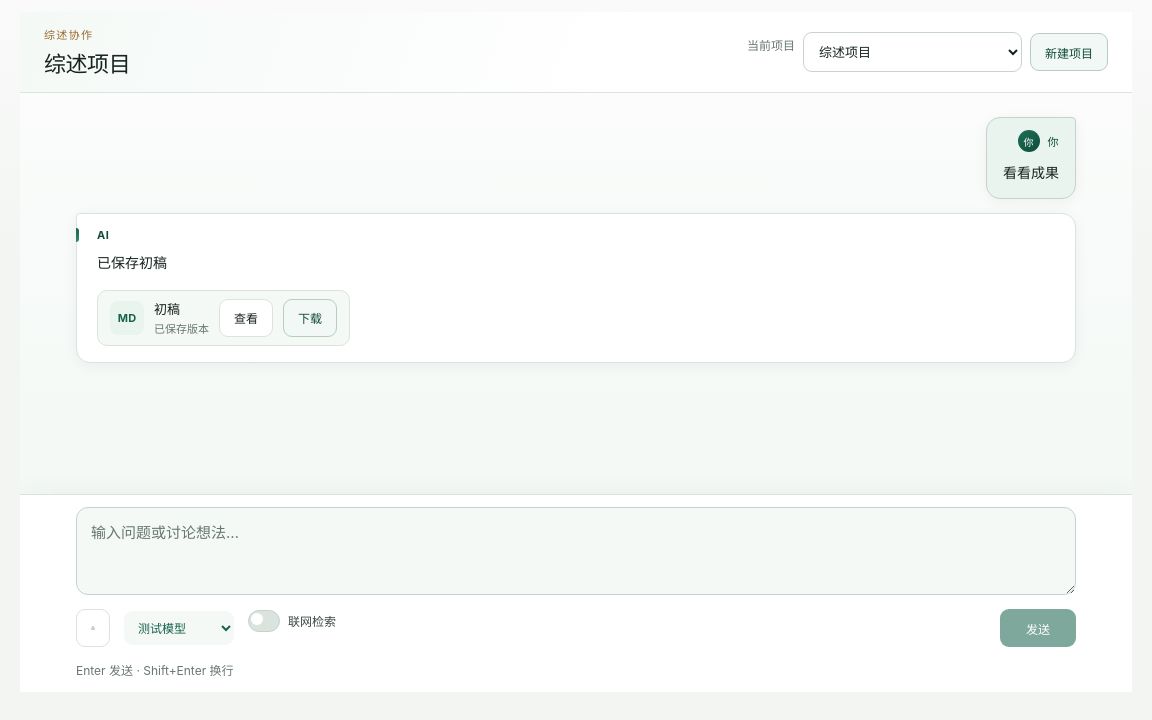
Scenario: project conversation › opens the actual saved result and retains manual edits when closing the viewer
Click the button with aria-label "初稿".
click(246, 318)  # box [219,299,273,337]
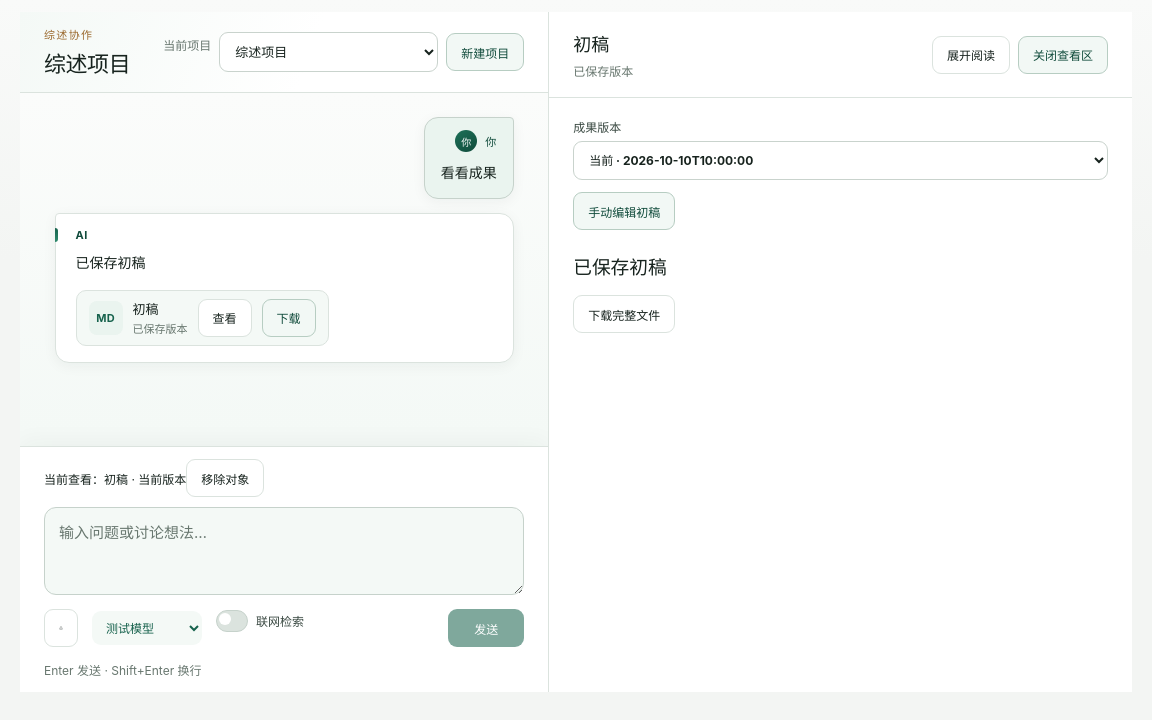
Expected: the text "已保存初稿" is shown, [76,254,146,271]
Click the button "手动编辑初稿".
click(624, 211)  # box [573,192,675,230]
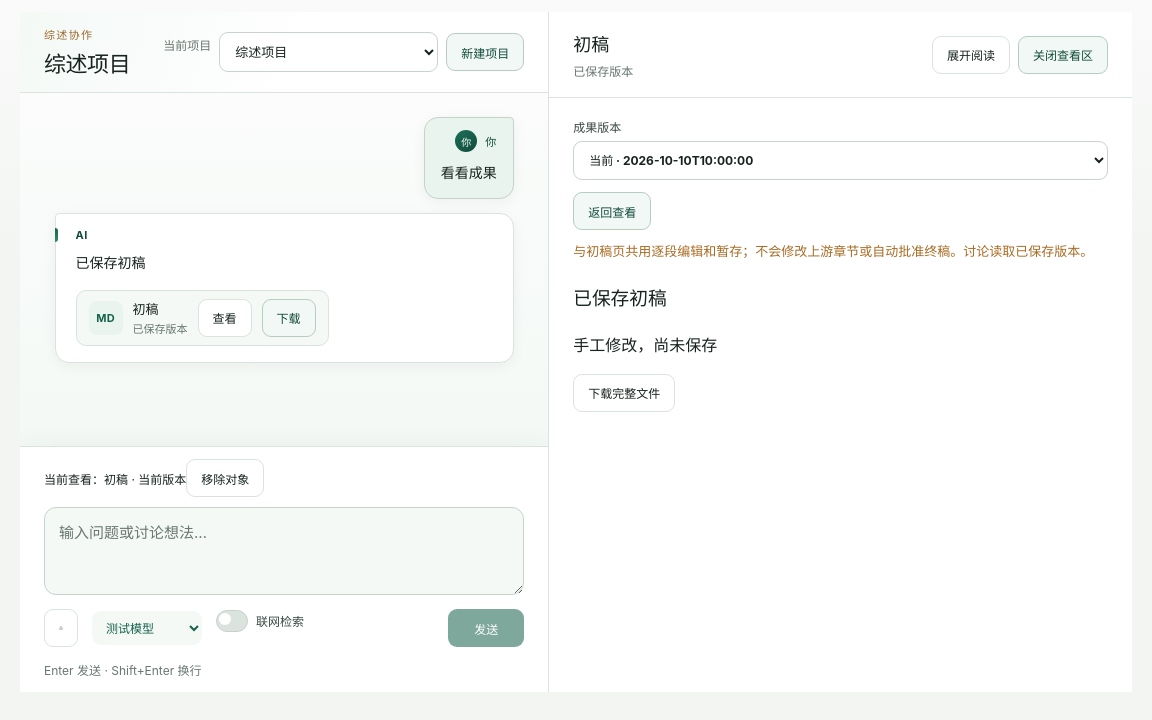
Clear the field named "段落内容 · S01-p1" at (645, 345), box [573,335,717,355]
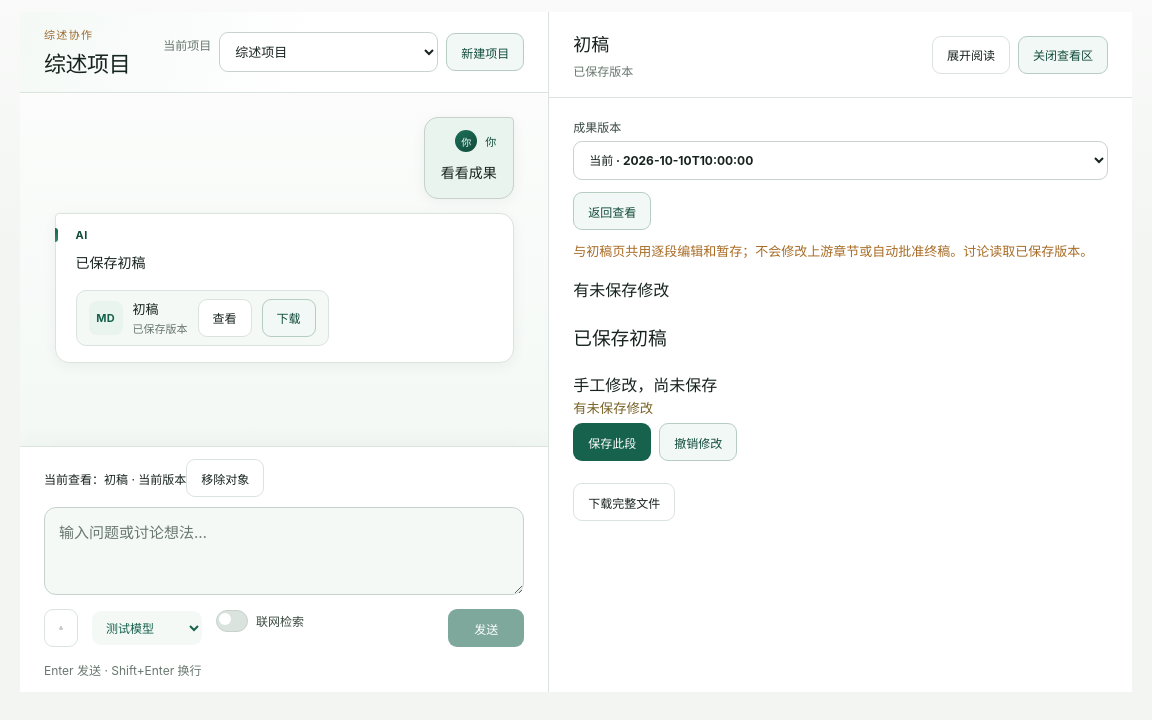
Expected: the 1st text "有未保存修改" is shown, [573,280,669,300]
Click the button "关闭查看区".
click(1063, 54)  # box [1018,36,1108,74]
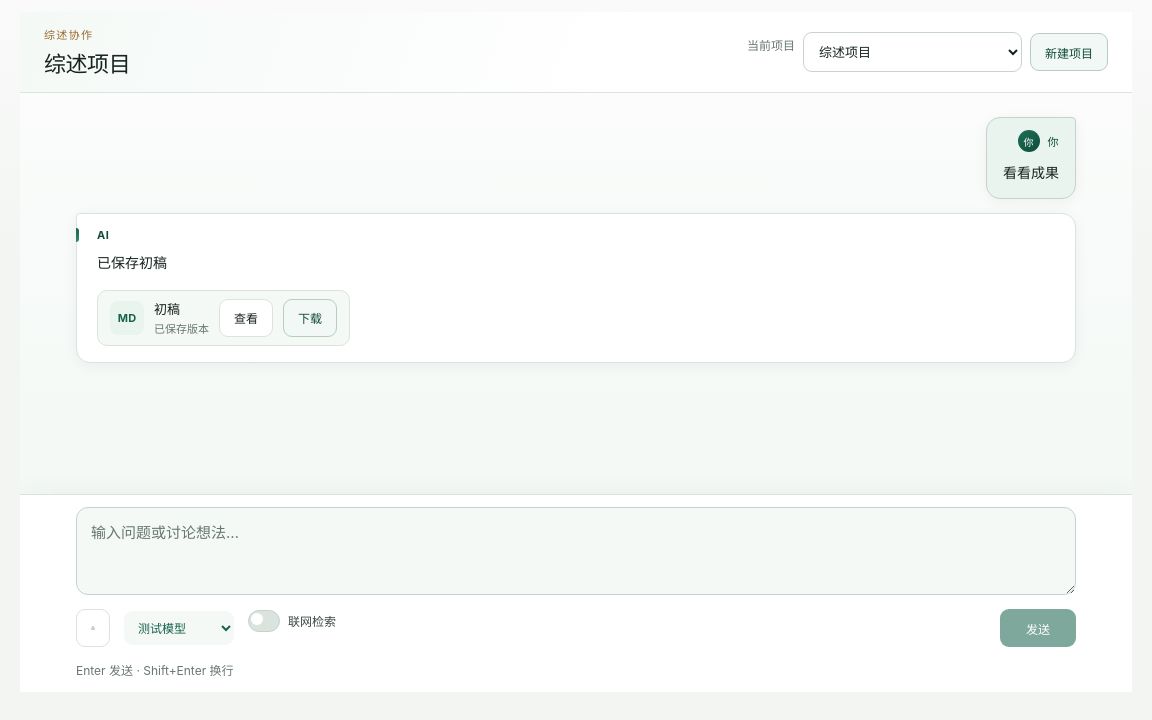
Click the button with aria-label "初稿".
click(246, 318)  # box [219,299,273,337]
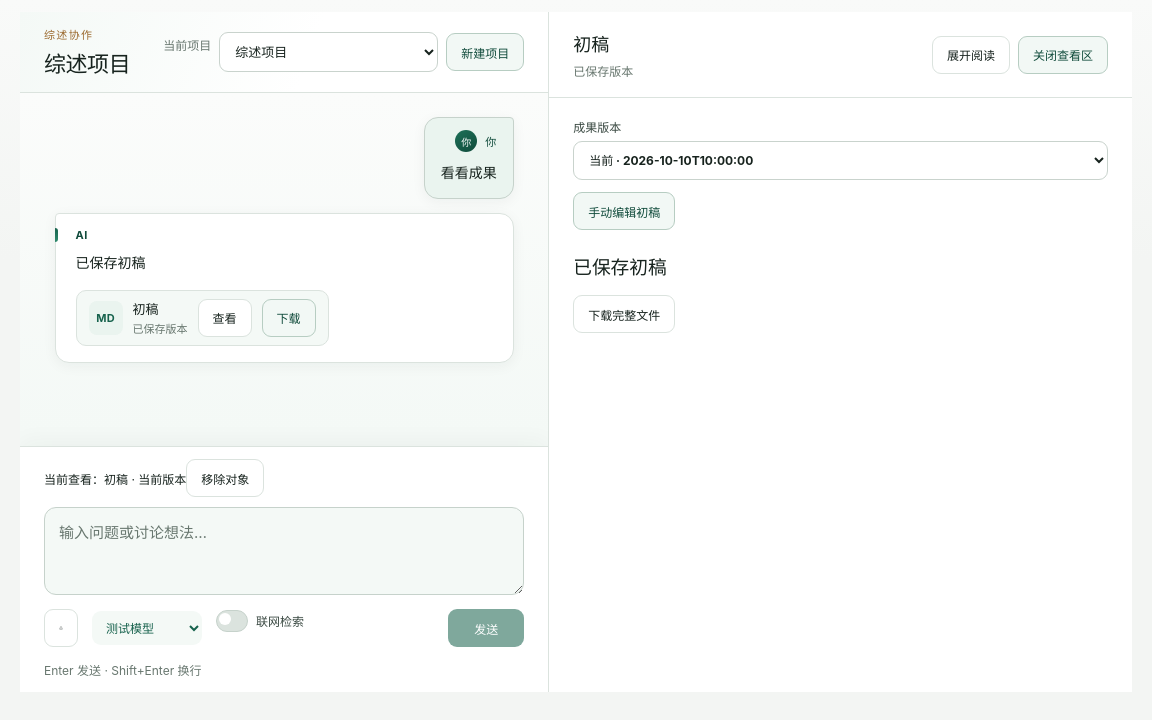
Click the button "手动编辑初稿".
click(624, 211)  # box [573,192,675,230]
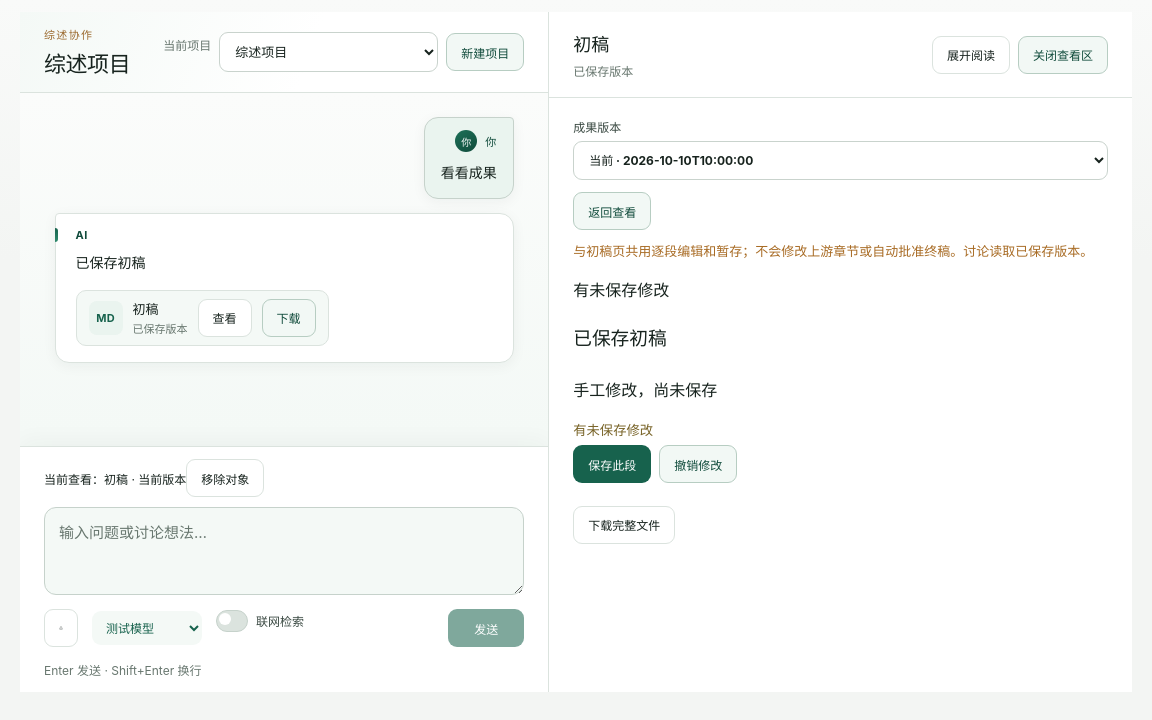
Expected: the field named "段落内容 · S01-p1" reads "手工修改，尚未保存", [573,380,717,400]
